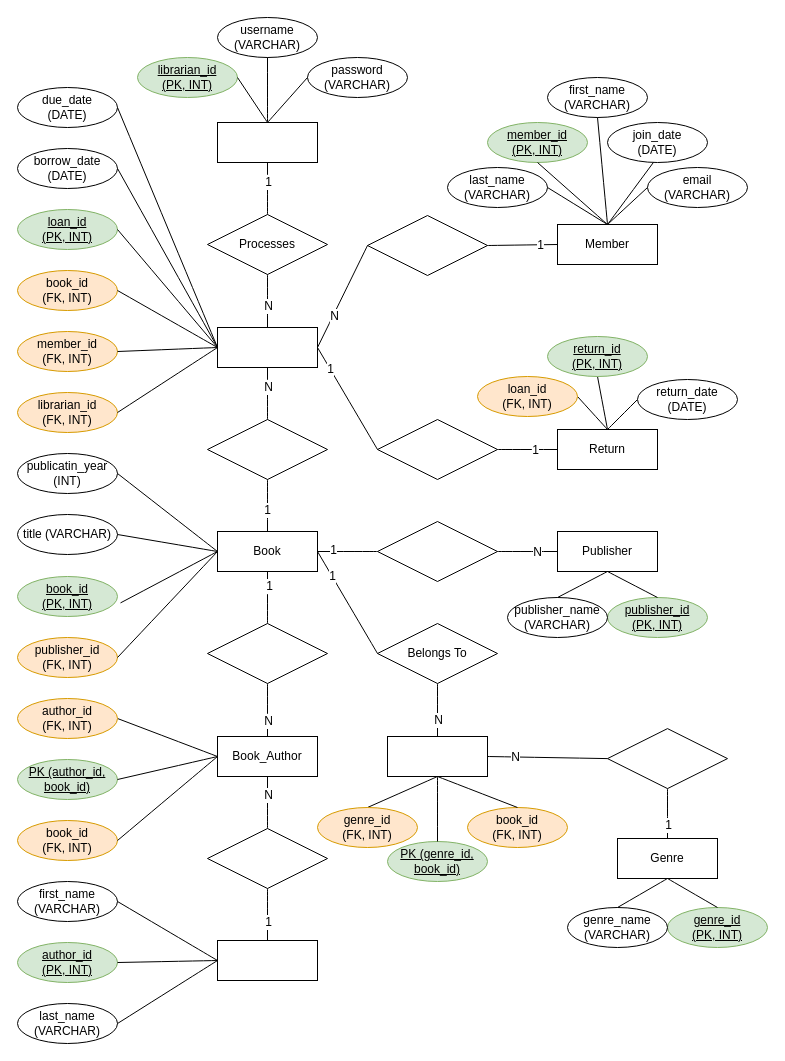
This 785x1061 diagram has some shape labels left out. The centre of each missing label's shape, as x and y in pixels:
"Author" belongs at (267,960).
"Book_Genre" belongs at (437,756).
"Borrows" belongs at (427,245).
"Contains" belongs at (667,758).
"Librarian" belongs at (267,142).
"Loan" belongs at (267,347).
"Loaned" belongs at (267,449).
"Publishes" belongs at (437,551).
"Returned" belongs at (437,449).
"Writes" belongs at (267,858).
"Written By" belongs at (267,653).
